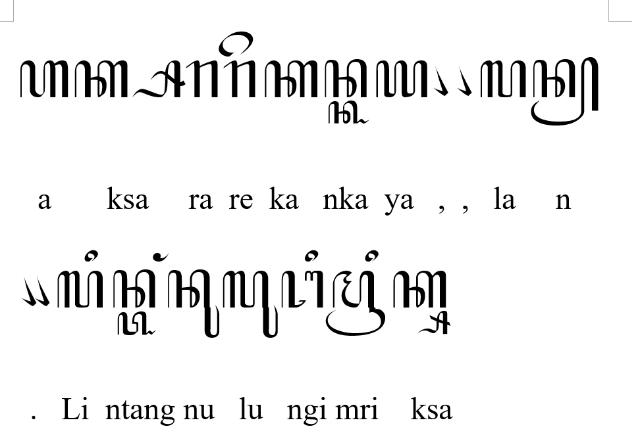-n: (531, 57, 599, 126)
_k: (328, 100, 369, 123), (118, 312, 156, 336)
_s: (132, 60, 186, 100), (418, 312, 450, 334)
e: (218, 31, 254, 57)
h: (20, 60, 68, 99)
i: (84, 250, 98, 262), (365, 250, 379, 262), (304, 251, 318, 262)
k: (74, 60, 128, 98), (264, 60, 318, 98), (394, 271, 446, 309)
kom: (456, 66, 472, 97), (434, 66, 448, 96), (22, 276, 36, 306), (35, 276, 49, 306)
l: (480, 61, 526, 98), (57, 271, 103, 308)
lu: (222, 272, 278, 338)
mr: (325, 271, 385, 337)
n: (325, 59, 367, 97), (113, 270, 155, 308)
ng: (153, 252, 169, 262)
nga: (282, 271, 322, 308)
nu: (167, 270, 219, 338)
r: (186, 61, 218, 98), (223, 61, 254, 98)
y: (376, 61, 428, 98)
